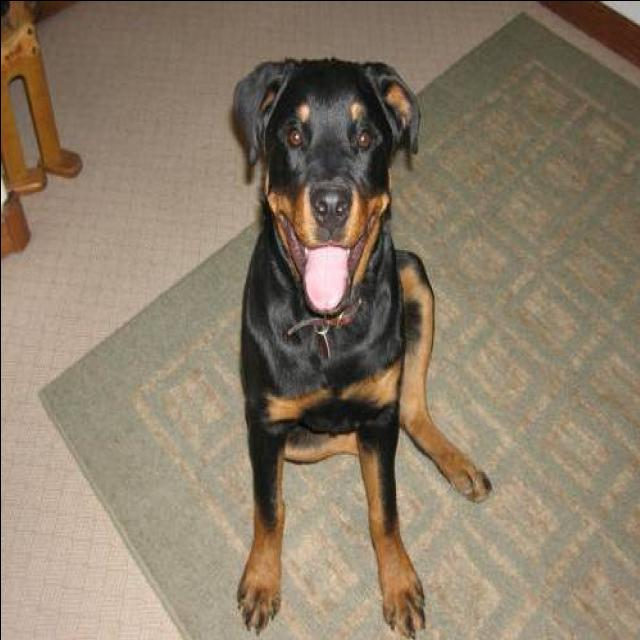dog: (158, 40, 492, 640)
